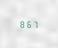eight: (18, 19, 23, 27)
seven: (31, 20, 36, 28)
six: (25, 19, 30, 28)
